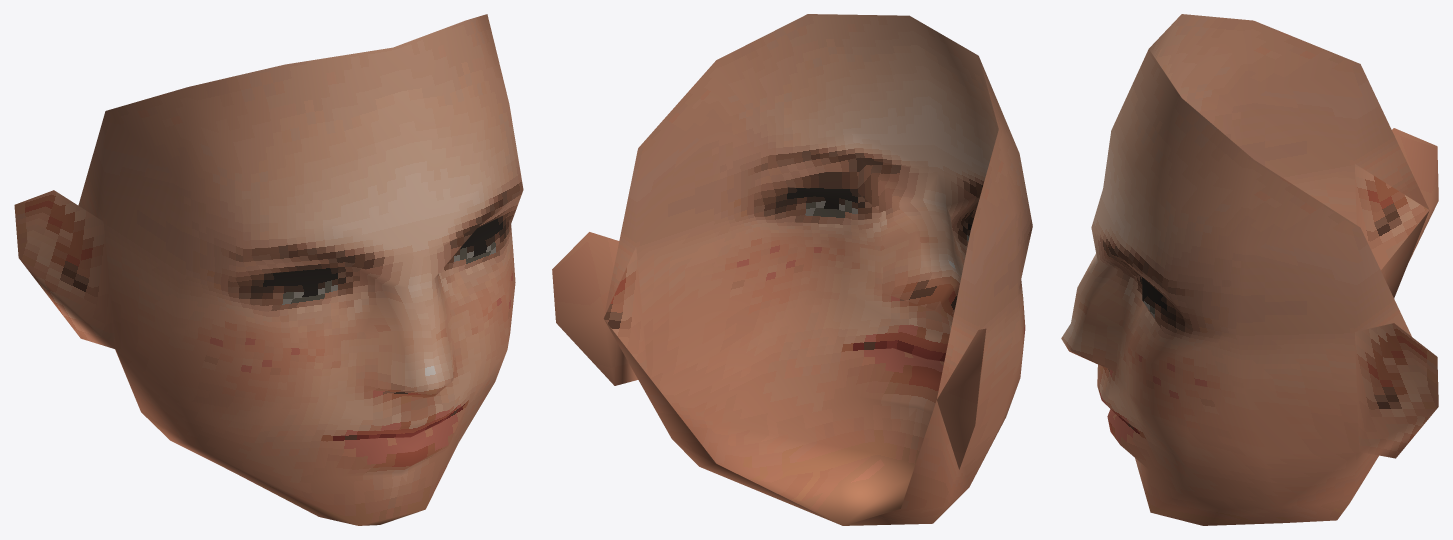
3 views of the same model, side by side, from view 1: azimuth 30°, elevation 25°; view 2: azimuth 150°, elevation 25°; view 3: azimuth 270°, elevation 25° (orthographic). The views are drawn at different scales.
Bounding box in the file's own units: 19.4 × 19.96 × 14.7.
Materials: 1 (1 with a texture image).
